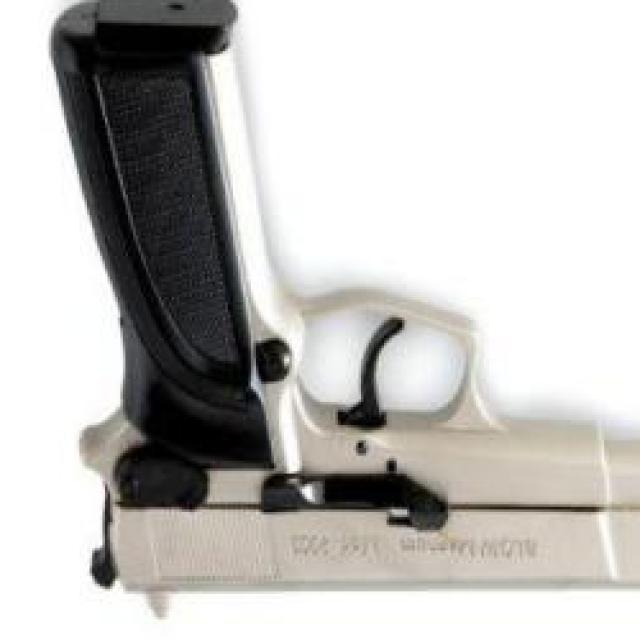pistol: (49, 1, 640, 620)
